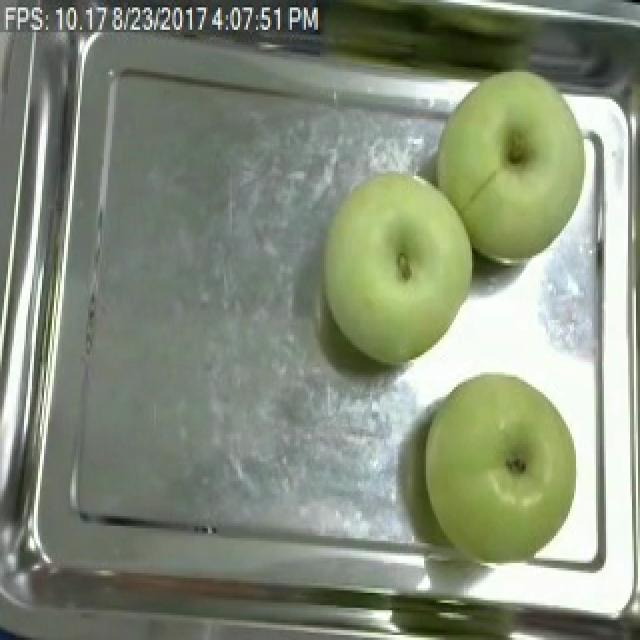50-_ripeness: (434, 51, 587, 277), (422, 364, 582, 567), (317, 171, 469, 366)
